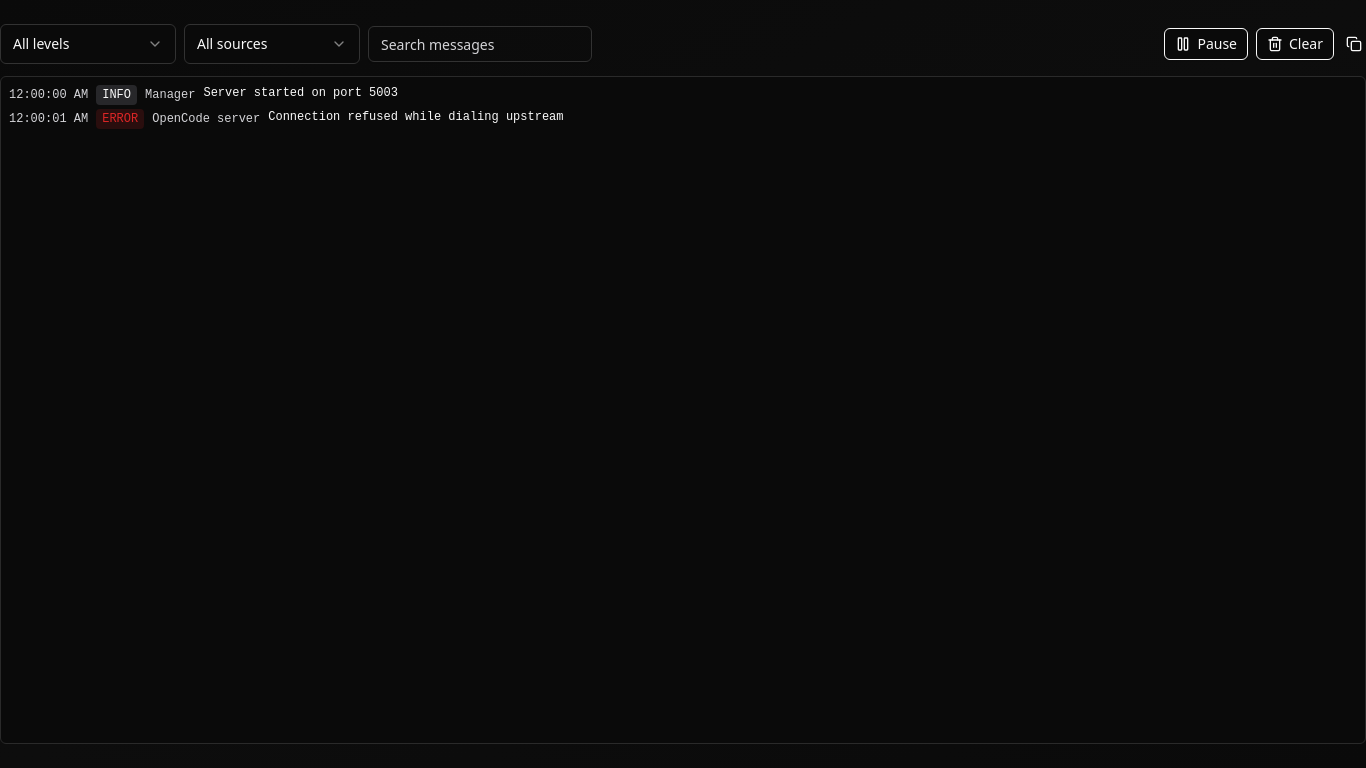
Test case: LogsViewer › hides rows that do not match the search text
In the field named "Search log messages": (480, 44) [368,26,592,62], type "refused"
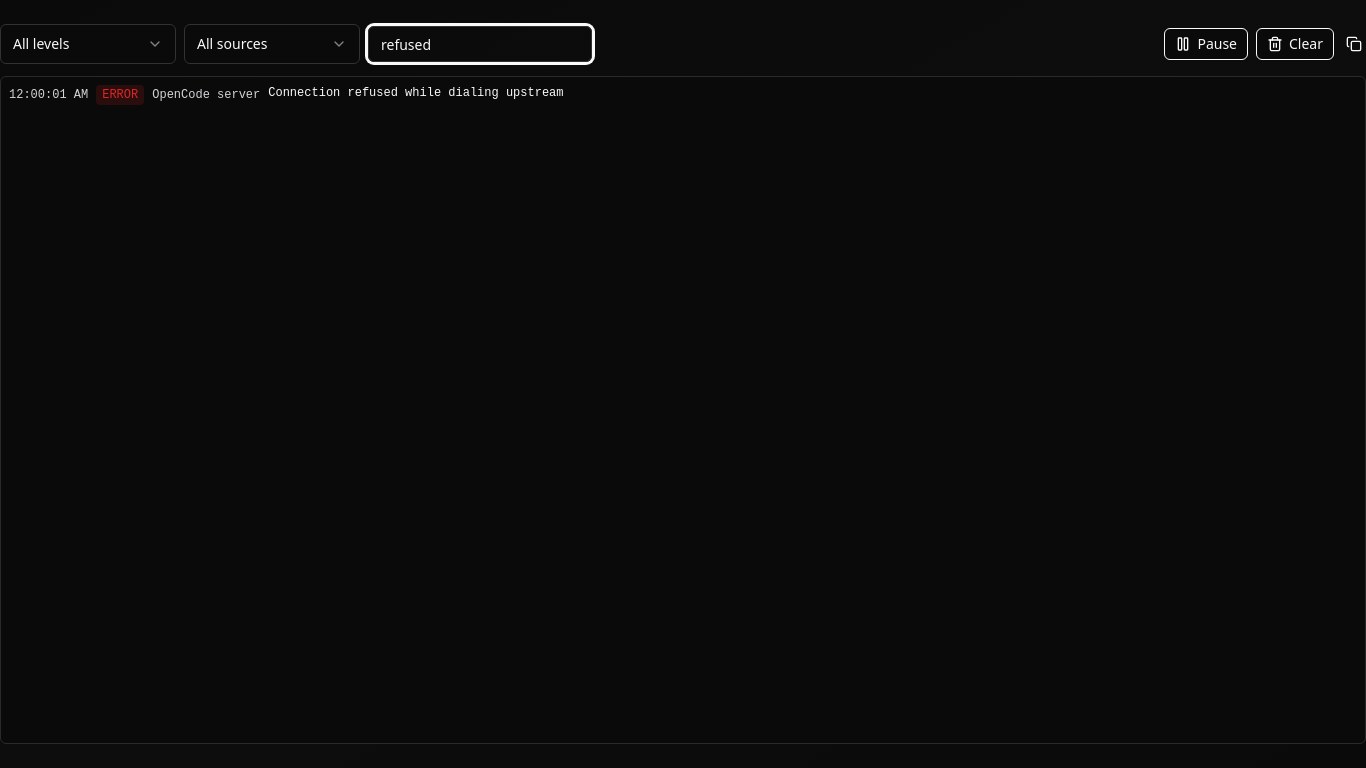
Expected: the text "Connection refused while dialing upstream" is shown, [268,86,564,100]
Result: the text "Server started on port 5003" is gone
